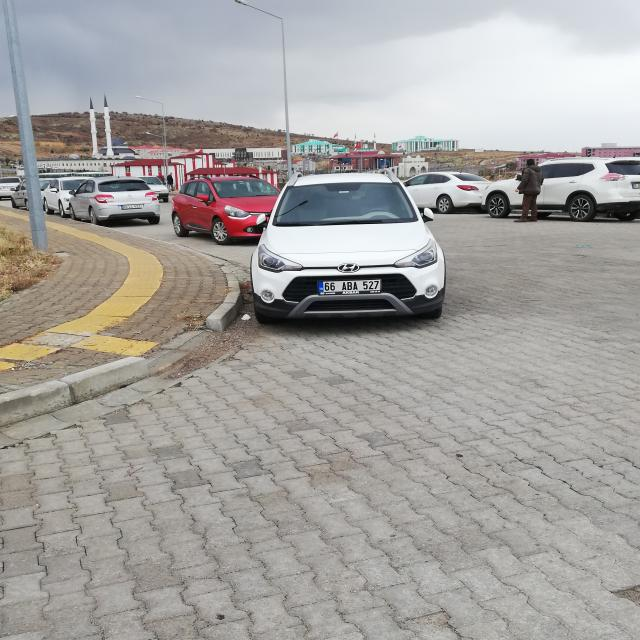license_plate: (318, 280, 380, 291)
